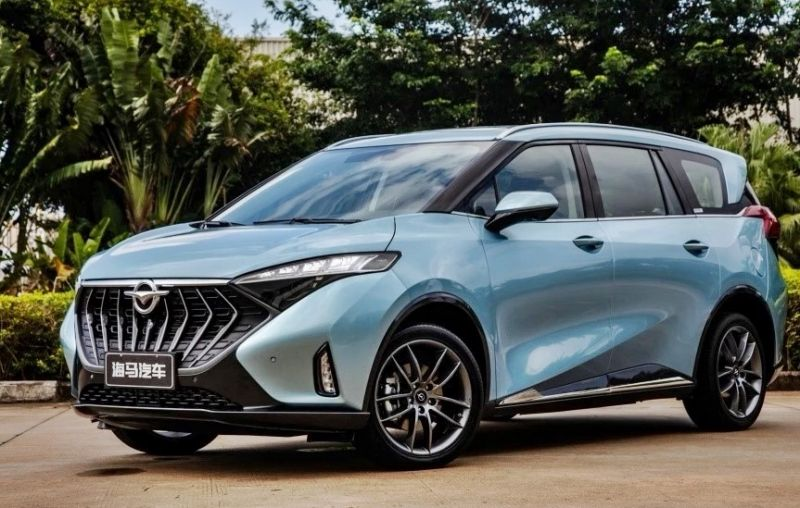car: (58, 127, 786, 458)
